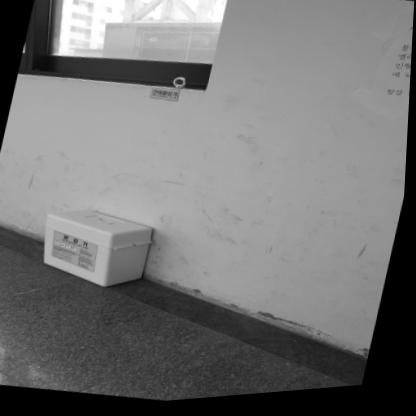DDL: (36, 199, 158, 299)
